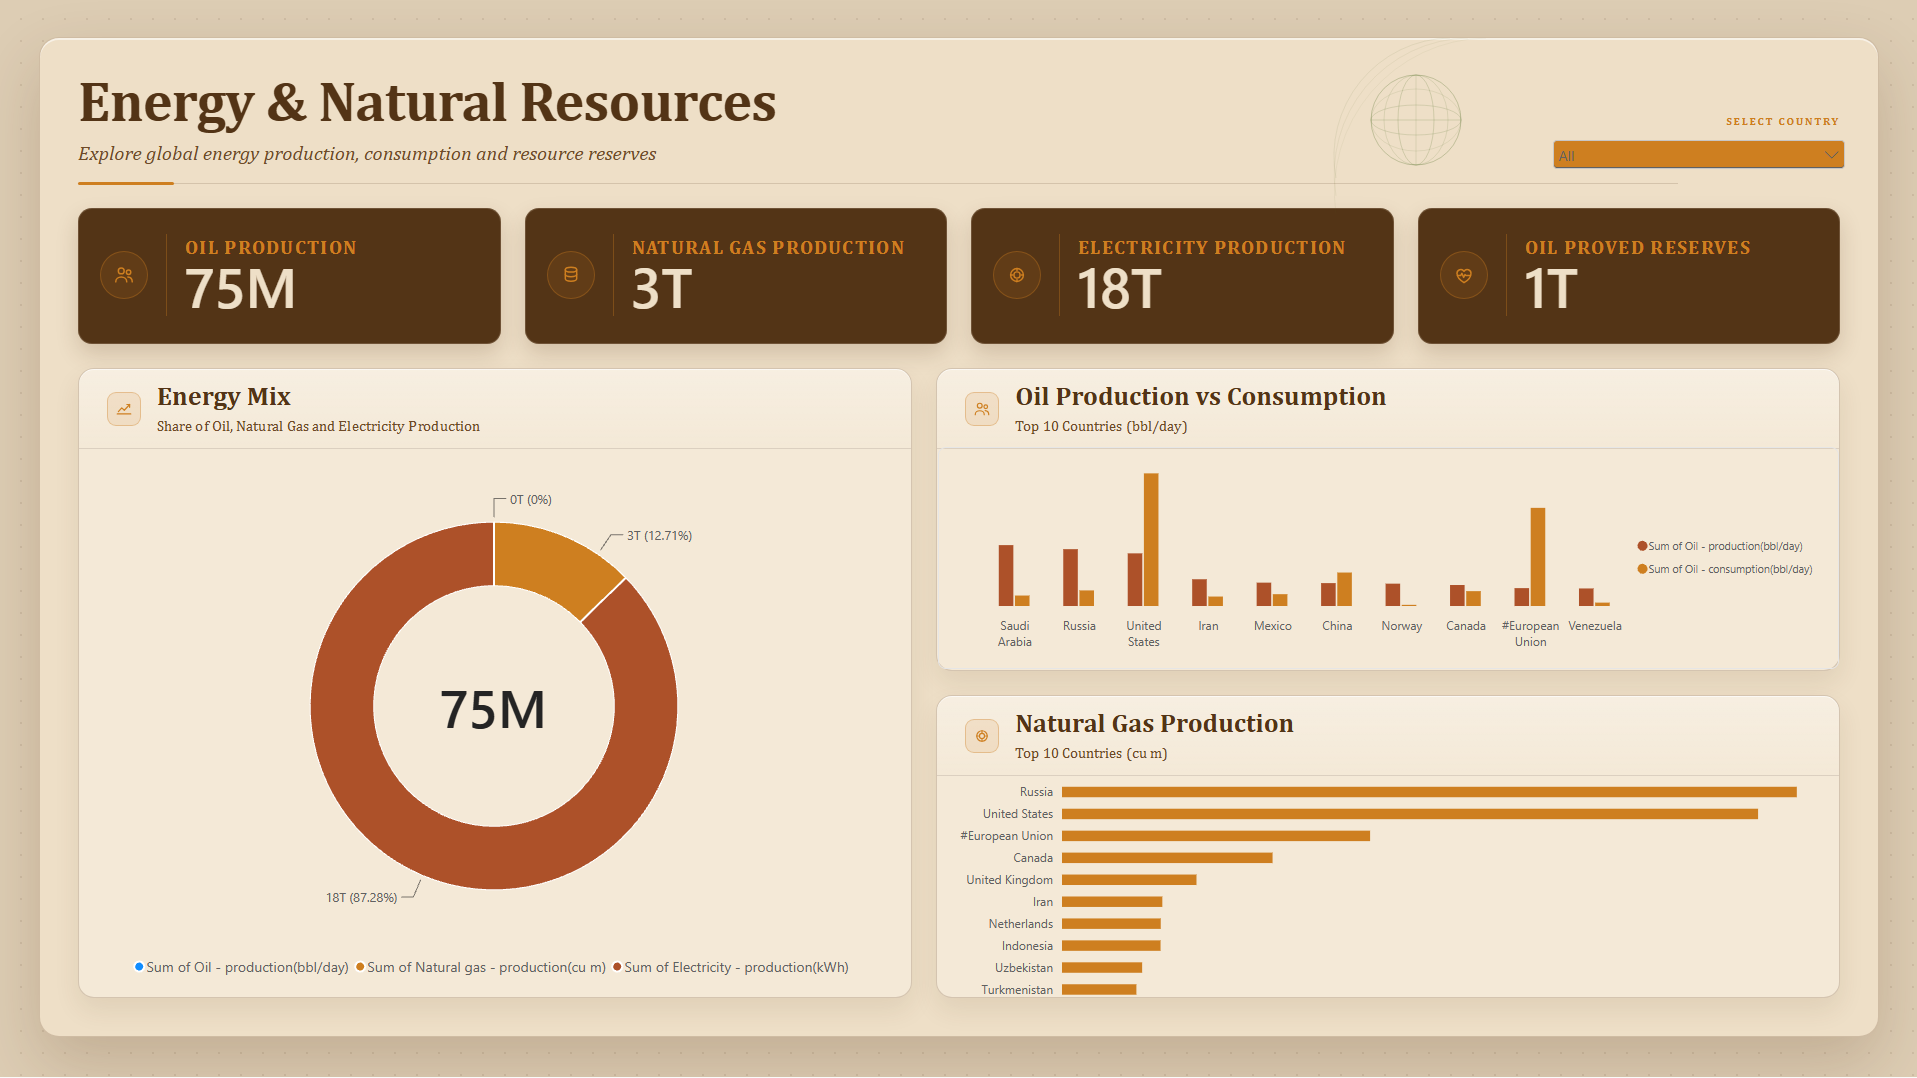

The dashboard page shown, as its layout file describes it:
{"tool":"powerbi","page":{"name":"Energy & Natural Resources","canvas":[1920,1080],"ordinal":4},"visuals":[{"type":"cardVisual","fields":{"Data":["Sum(Country Data Comparison.Oil - production(bbl/day))"]},"box":[170,229,266,114],"z":0},{"type":"cardVisual","fields":{"Data":["Sum(Country Data Comparison.Natural gas - production(cu m))"]},"box":[616,229,266,114],"z":1000},{"type":"cardVisual","fields":{"Data":["Sum(Country Data Comparison.Electricity - production(kWh))"]},"box":[1063,229,266,114],"z":2000},{"type":"cardVisual","fields":{"Data":["Sum(Country Data Comparison.Oil - proved reserves(bbl))"]},"box":[1510,229,266,114],"z":3000},{"type":"slicer","fields":{"Values":["Country Data Comparison.Country"]},"box":[1549,136,302,47],"z":4000},{"type":"clusteredColumnChart","fields":{"Category":["Country Data Comparison.Country"],"Y":["Sum(Country Data Comparison.Oil - production(bbl/day))","Sum(Country Data Comparison.Oil - consumption(bbl/day))"]},"box":[938.7,448,901.5,222.1],"z":5000},{"type":"clusteredBarChart","fields":{"Category":["Country Data Comparison.Country"],"Y":["Sum(Country Data Comparison.Natural gas - production(cu m))"]},"box":[938.6,756.6,902,264.4],"z":6000},{"type":"donutChart","fields":{"Y":["Sum(Country Data Comparison.Oil - production(bbl/day))","Sum(Country Data Comparison.Natural gas - production(cu m))","Sum(Country Data Comparison.Electricity - production(kWh))"]},"box":[78.9,447.8,831.9,550.2],"z":7000}]}

Visuals, with their boxes in screenshot pixels (x1, y1, x2, y2), scaled from the page's 1920x1080 canvas onto the 1917x1078 screenshot:
cardVisual - Sum(Country Data Comparison.Oil - production(bbl/day)): [170, 229, 435, 342]
cardVisual - Sum(Country Data Comparison.Natural gas - production(cu m)): [615, 229, 881, 342]
cardVisual - Sum(Country Data Comparison.Electricity - production(kWh)): [1061, 229, 1327, 342]
cardVisual - Sum(Country Data Comparison.Oil - proved reserves(bbl)): [1508, 229, 1773, 342]
slicer - Country Data Comparison.Country: [1547, 136, 1848, 183]
clusteredColumnChart - Country Data Comparison.Country x Sum(Country Data Comparison.Oil - production(bbl/day)): [937, 447, 1837, 669]
clusteredBarChart - Country Data Comparison.Country x Sum(Country Data Comparison.Natural gas - production(cu m)): [937, 755, 1838, 1019]
donutChart - Sum(Country Data Comparison.Oil - production(bbl/day)) x Sum(Country Data Comparison.Natural gas - production(cu m)): [79, 447, 909, 996]
